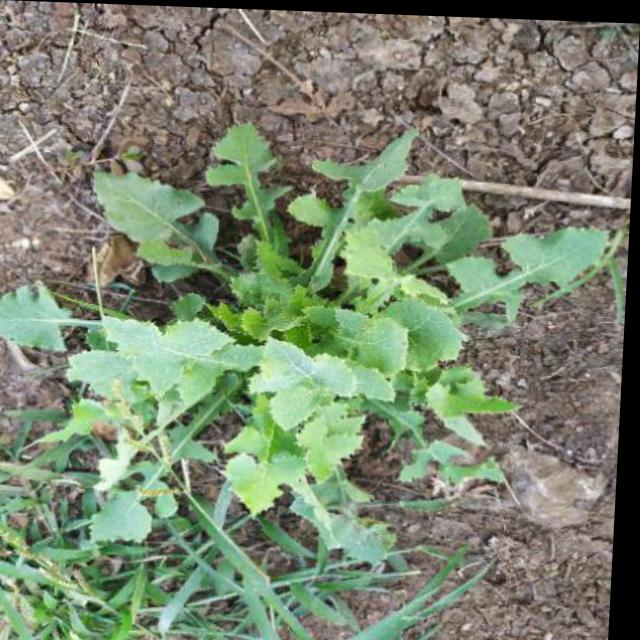weed: (0, 103, 616, 560)
